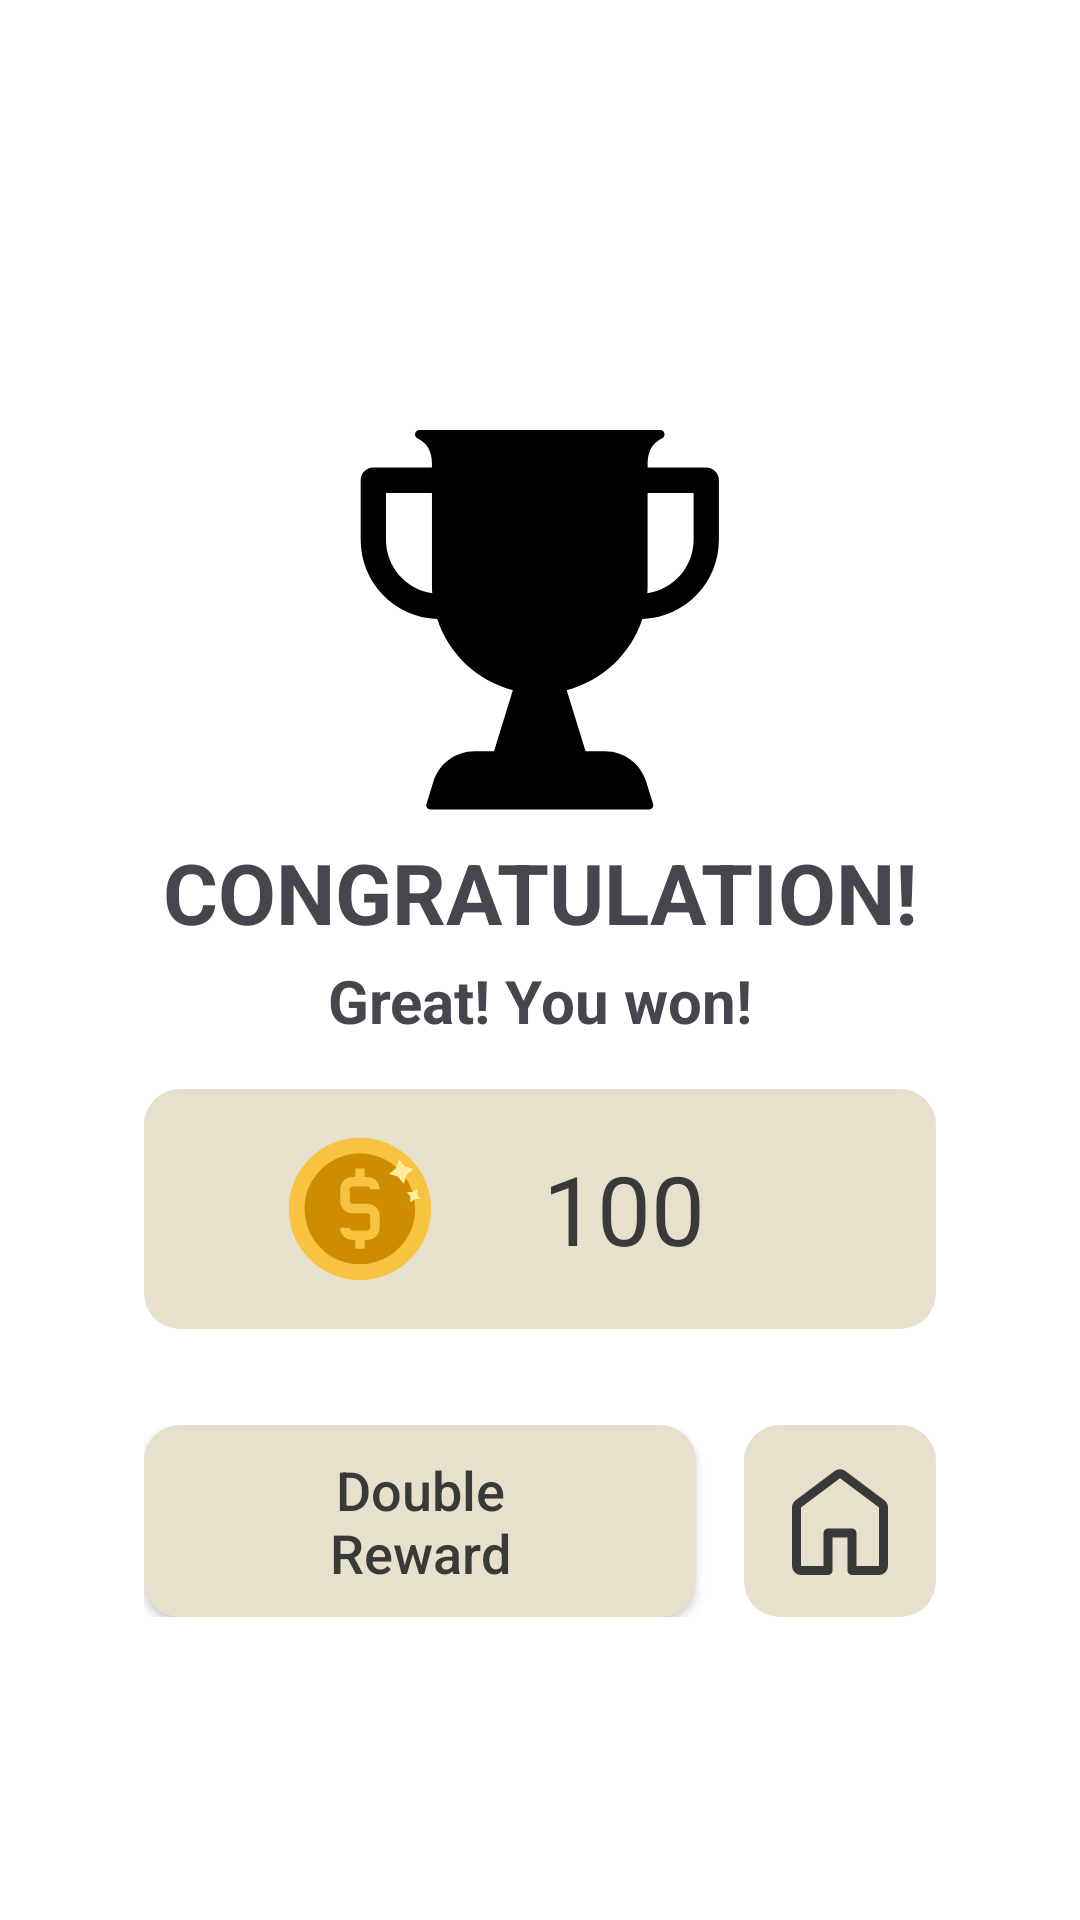

Icons on this 1080×1920 Android screen, each with its box as (x1=x1, y1=y1, x2=x2, y2=y2):
home: (x1=744, y1=1425, x2=936, y2=1617)
